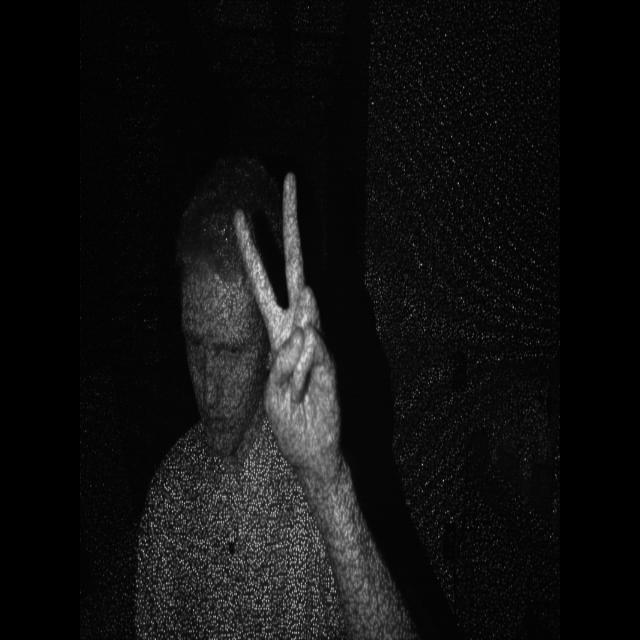V: (222, 152, 360, 485)
